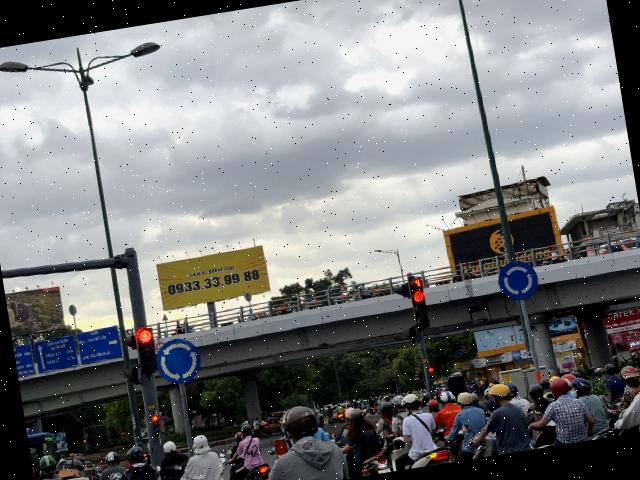noi-giao-nhau-chay-theo-vong-xuyen: (153, 334, 205, 387), (494, 257, 540, 304)
